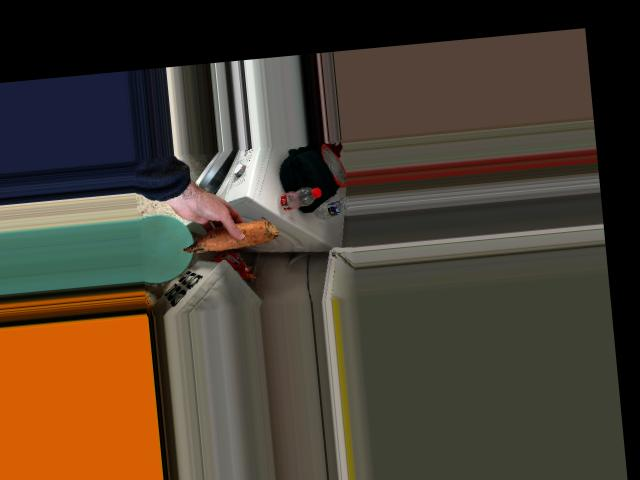sweet_potato: (178, 212, 283, 256)
